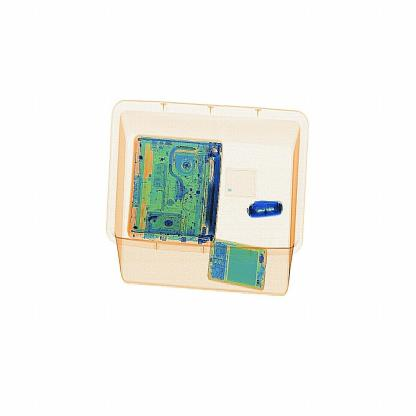scissors: (244, 199, 286, 221)
